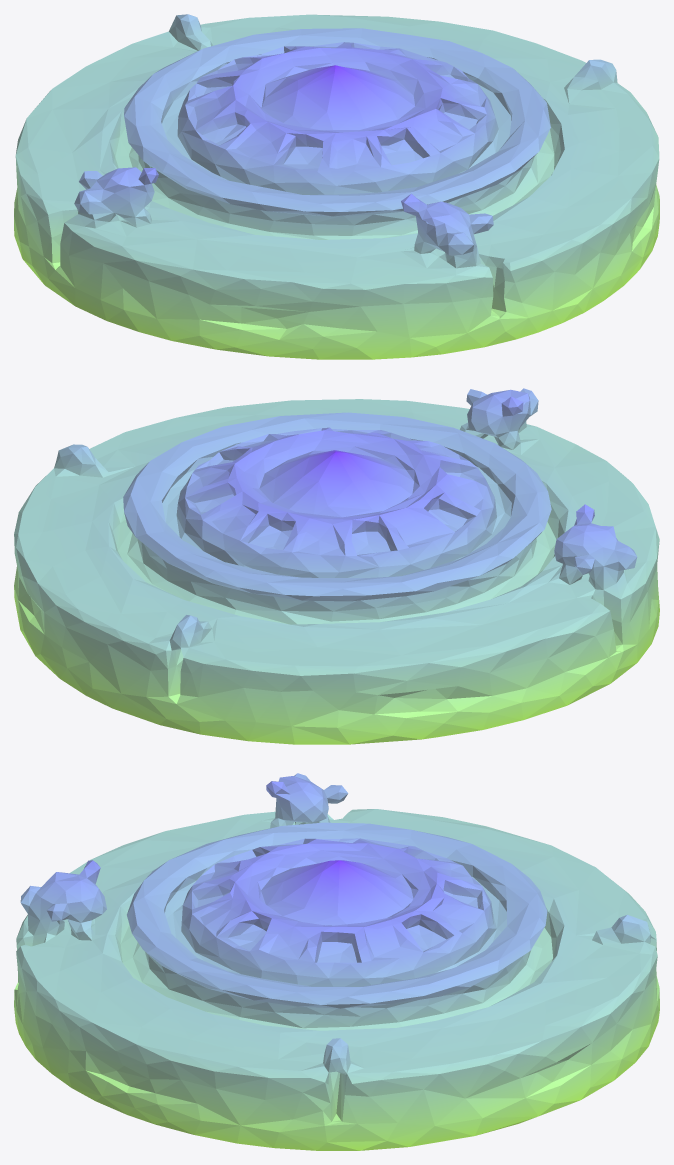
Rendered from 178_cyb_laser_gradient_fish_scales_2871_2026_10_03_07f397.glb.
3 renders of one model, top to bottom at view 1: azimuth 30°, elevation 25°; view 2: azimuth 150°, elevation 25°; view 3: azimuth 270°, elevation 25°, orthographic.
Parts seen in each view (by area): view 1: geometry_0; view 2: geometry_0; view 3: geometry_0.
Part boxes in pixels (box(x1,y1,x2,y2)): geometry_0: box(14, 14, 659, 359); geometry_0: box(14, 388, 659, 744); geometry_0: box(14, 773, 659, 1150).
Size of the model in its own units: 0.9982 by 0.2698 by 1.
